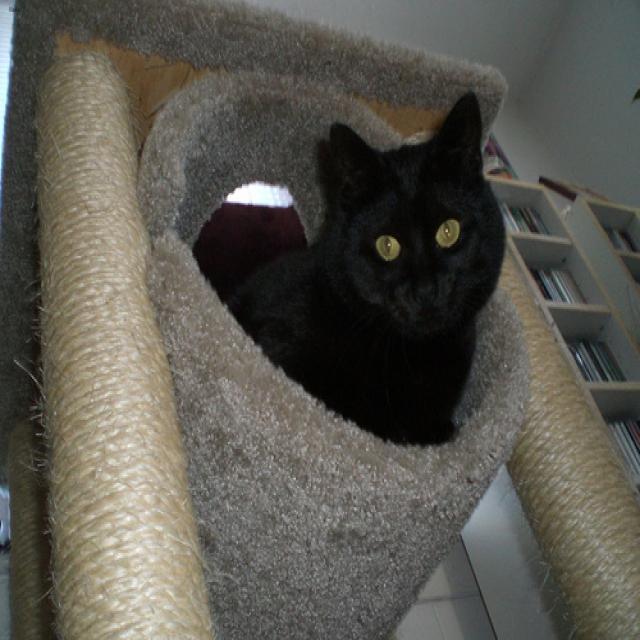Bombay: (308, 75, 513, 349)
